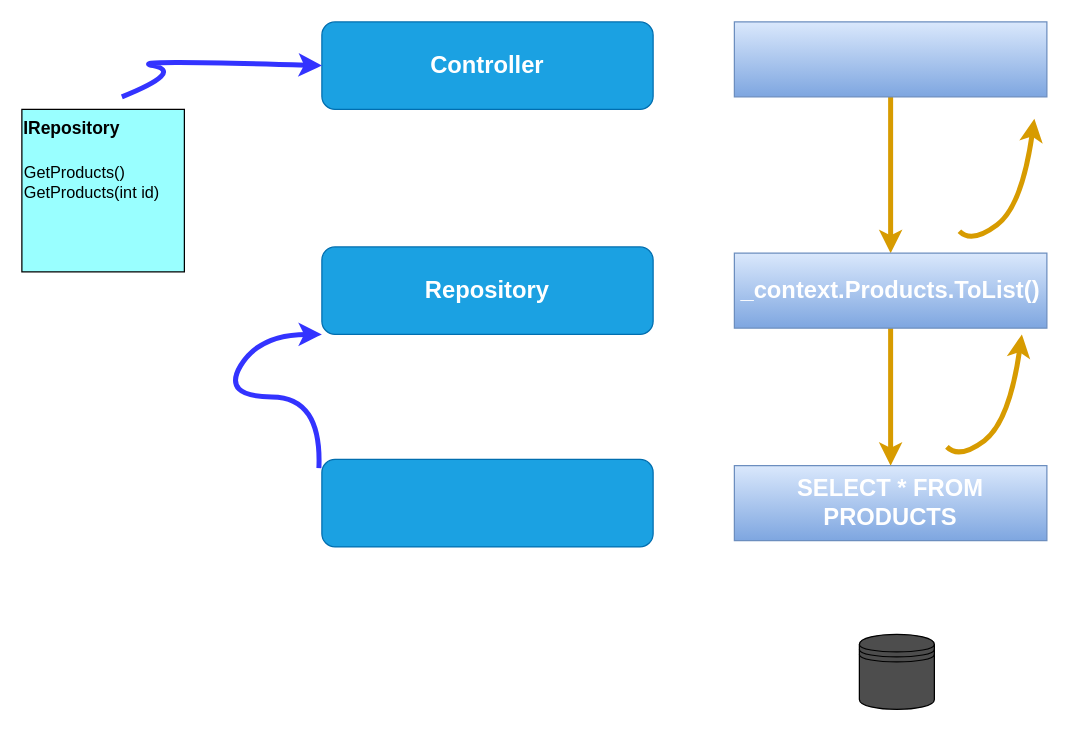
Image size: 1069x731. Some labels were removed from this diagram. The box of each missing label's shape, as (x1, y1, x2, y2) in pixels:
DbContext: (321, 458, 653, 547)
GetProducts(): (733, 21, 1047, 97)
